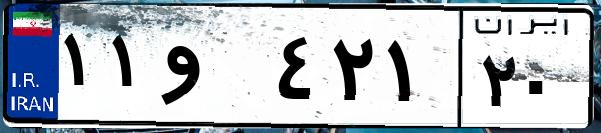0: (525, 38, 570, 115)
1: (385, 28, 445, 110), (57, 26, 110, 100), (110, 28, 158, 98)
2: (330, 28, 385, 110), (475, 38, 525, 113)
4: (270, 28, 330, 110)
و: (158, 20, 270, 120)
